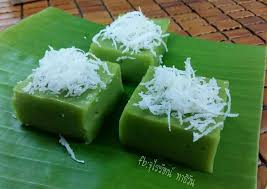kanompiakpoon: (122, 61, 233, 179), (10, 42, 126, 152), (88, 9, 176, 86)
